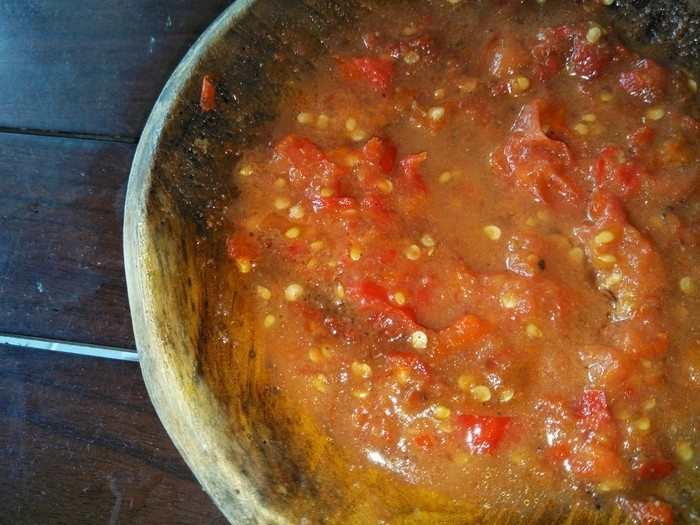sambal: (233, 21, 699, 493)
